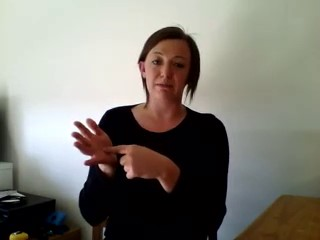T: (63, 114, 182, 192)
